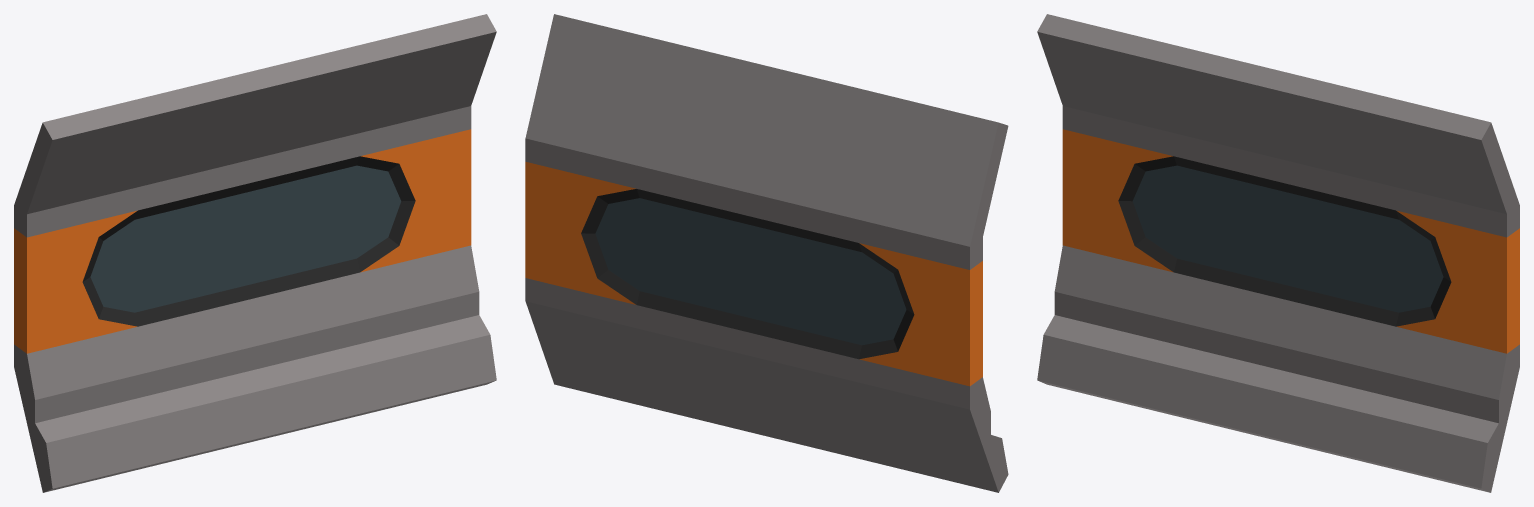
File: scifi_scifi-window-corridor-stripe.fbx
The picture shows the model from 3 angles, left to right: view 1: azimuth 30°, elevation 25°; view 2: azimuth 150°, elevation 25°; view 3: azimuth 330°, elevation 25°; orthographic projection.
Parts seen in each view (by area): view 1: scifi_scifi_window_corridor_stripe; view 2: scifi_scifi_window_corridor_stripe; view 3: scifi_scifi_window_corridor_stripe.
Part boxes in pixels (bbox=[...]): scifi_scifi_window_corridor_stripe: bbox=[14, 14, 496, 492]; scifi_scifi_window_corridor_stripe: bbox=[525, 14, 1008, 492]; scifi_scifi_window_corridor_stripe: bbox=[1037, 14, 1519, 492].
Bounding box in the file's own units: 200 × 159 × 30.
